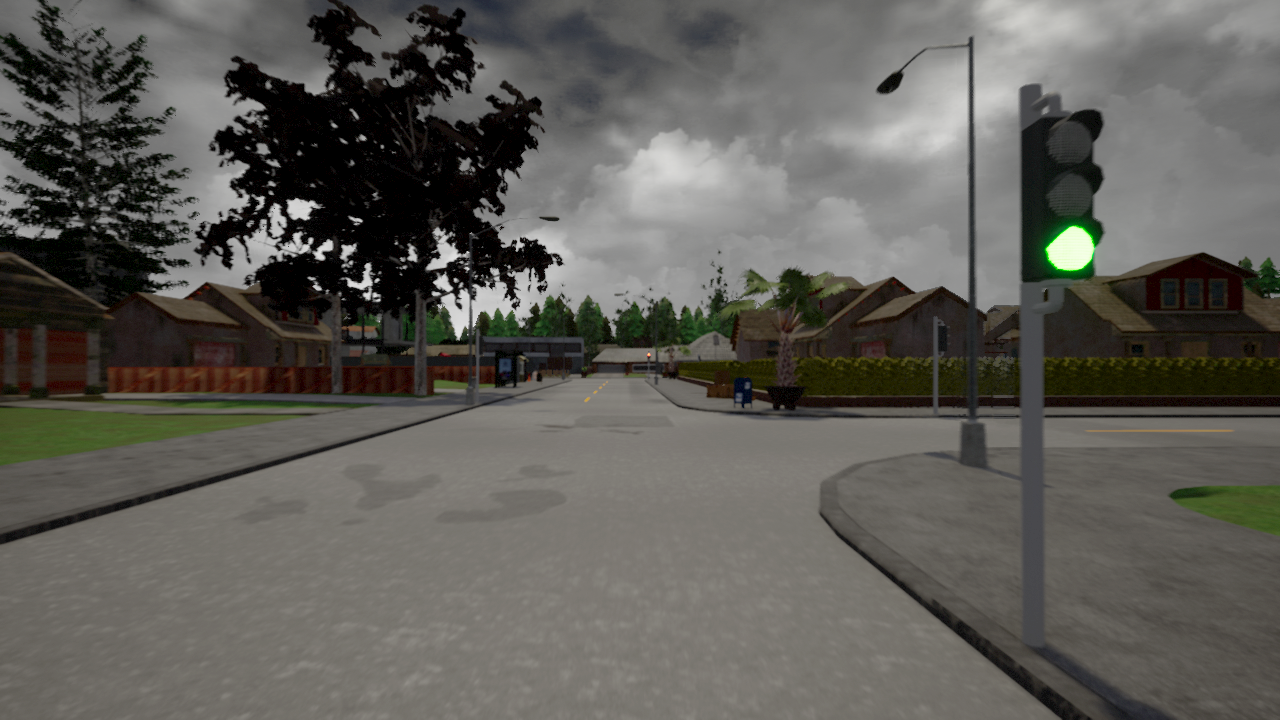green: (1021, 101, 1105, 287)
